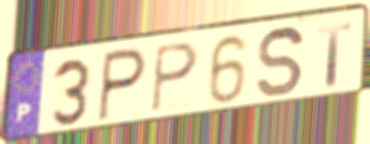3: (47, 54, 92, 129)
6: (205, 32, 251, 107)
P: (95, 45, 149, 124), (150, 40, 201, 116)
S: (255, 25, 306, 100)
T: (316, 19, 354, 89)
